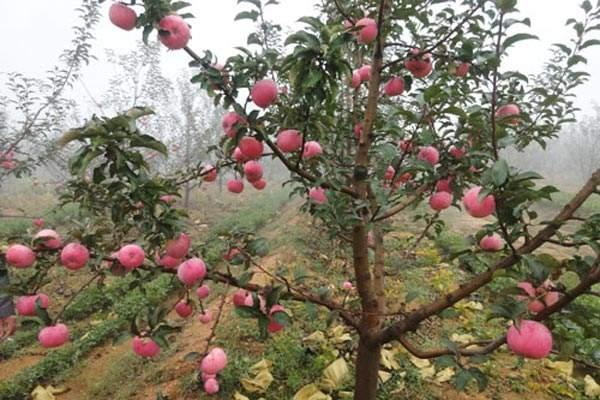apple: (508, 319, 552, 358), (155, 14, 190, 50), (462, 188, 494, 218), (403, 47, 432, 78), (178, 256, 205, 287), (274, 128, 303, 155), (108, 3, 137, 30), (252, 81, 277, 106), (354, 16, 378, 41), (62, 244, 88, 266), (39, 324, 65, 346), (8, 245, 34, 267), (120, 245, 144, 268), (431, 192, 453, 209)
